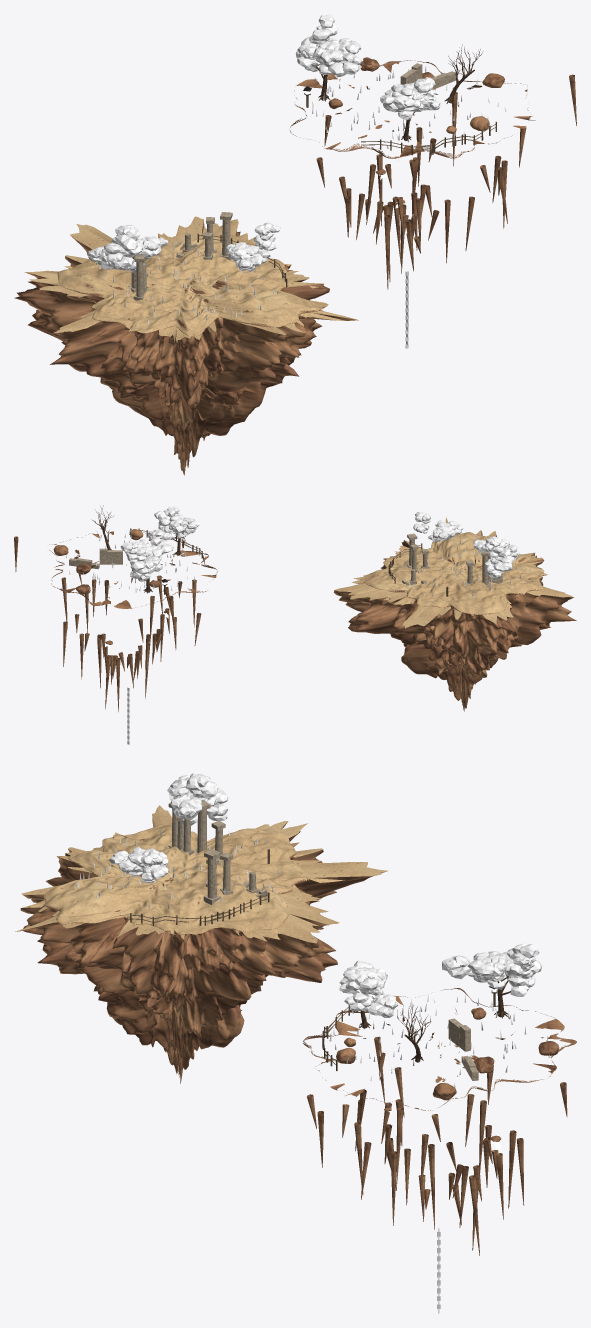
Rendered from map_islands_06.glb.
3 views of the same model, one above another, from view 1: azimuth 30°, elevation 25°; view 2: azimuth 150°, elevation 25°; view 3: azimuth 270°, elevation 25° (orthographic). The views are drawn at different scales.
Visible parts, largest first — view 1: Isl05_under__cliff_00, Isl05_top__sand_00, Isl06_props__cliff, Isl05_top__sand_01, Isl05_under__cliff_01, Isl05_top__sand_02, Isl05_under__cliff_02, Isl05_props__leaf_00, Isl06_props__leaf_00, Isl06_props__leaf_01, Isl05_props__stone, Isl05_under__sand (+6 smaller); view 2: Isl05_under__cliff_00, Isl06_props__cliff, Isl05_top__sand_00, Isl05_top__sand_01, Isl05_under__cliff_01, Isl06_props__leaf_00, Isl05_props__leaf_00, Isl05_top__sand_02, Isl06_props__leaf_01, Isl05_props__stone, Isl05_under__sand, Isl06_top__cliff (+4 smaller); view 3: Isl05_under__cliff_00, Isl05_under__cliff_01, Isl06_props__cliff, Isl05_top__sand_01, Isl05_top__sand_00, Isl05_under__cliff_02, Isl05_top__sand_02, Isl06_props__leaf_00, Isl05_props__leaf_00, Isl05_props__stone, Isl06_props__leaf_01, Isl05_under__sand (+5 smaller).
Boxes of the visible parts, left/top/right/bottom form: Isl05_under__cliff_00: left=14, top=220, right=358, bottom=414; Isl05_top__sand_00: left=72, top=238, right=275, bottom=327; Isl06_props__cliff: left=316, top=57, right=576, bottom=289; Isl05_top__sand_01: left=61, top=220, right=301, bottom=339; Isl05_under__cliff_01: left=101, top=264, right=310, bottom=475; Isl05_top__sand_02: left=25, top=216, right=357, bottom=340; Isl05_under__cliff_02: left=170, top=382, right=279, bottom=468; Isl05_props__leaf_00: left=87, top=222, right=280, bottom=324; Isl06_props__leaf_00: left=309, top=14, right=506, bottom=149; Isl06_props__leaf_01: left=295, top=36, right=363, bottom=77; Isl05_props__stone: left=128, top=212, right=232, bottom=300; Isl05_under__sand: left=39, top=219, right=345, bottom=342; Isl05_under__cliff_00: left=334, top=530, right=576, bottom=670; Isl06_props__cliff: left=14, top=529, right=201, bottom=711; Isl05_top__sand_00: left=379, top=539, right=535, bottom=605; Isl05_top__sand_01: left=356, top=533, right=543, bottom=628; Isl05_under__cliff_01: left=381, top=553, right=521, bottom=711; Isl06_props__leaf_00: left=66, top=506, right=200, bottom=592; Isl05_props__leaf_00: left=404, top=512, right=530, bottom=599; Isl05_top__sand_02: left=350, top=517, right=547, bottom=624; Isl06_props__leaf_01: left=130, top=537, right=173, bottom=581; Isl05_props__stone: left=402, top=533, right=503, bottom=586; Isl05_under__sand: left=334, top=530, right=573, bottom=617; Isl06_top__cliff: left=49, top=531, right=217, bottom=608; Isl05_under__cliff_00: left=15, top=822, right=386, bottom=1004; Isl05_under__cliff_01: left=37, top=928, right=251, bottom=1083; Isl06_props__cliff: left=307, top=1007, right=567, bottom=1255; Isl05_top__sand_01: left=58, top=824, right=388, bottom=931; Isl05_top__sand_00: left=58, top=827, right=292, bottom=927; Isl05_under__cliff_02: left=94, top=988, right=234, bottom=1077; Isl05_top__sand_02: left=15, top=821, right=339, bottom=937; Isl06_props__leaf_00: left=329, top=943, right=549, bottom=1087; Isl05_props__leaf_00: left=75, top=773, right=278, bottom=908; Isl05_props__stone: left=168, top=800, right=267, bottom=904; Isl06_props__leaf_01: left=442, top=951, right=542, bottom=996; Isl05_under__sand: left=22, top=805, right=344, bottom=943.
Size of the model in its own units: 213 by 98.72 by 146.
Materials: 9 (6 with a texture image).
